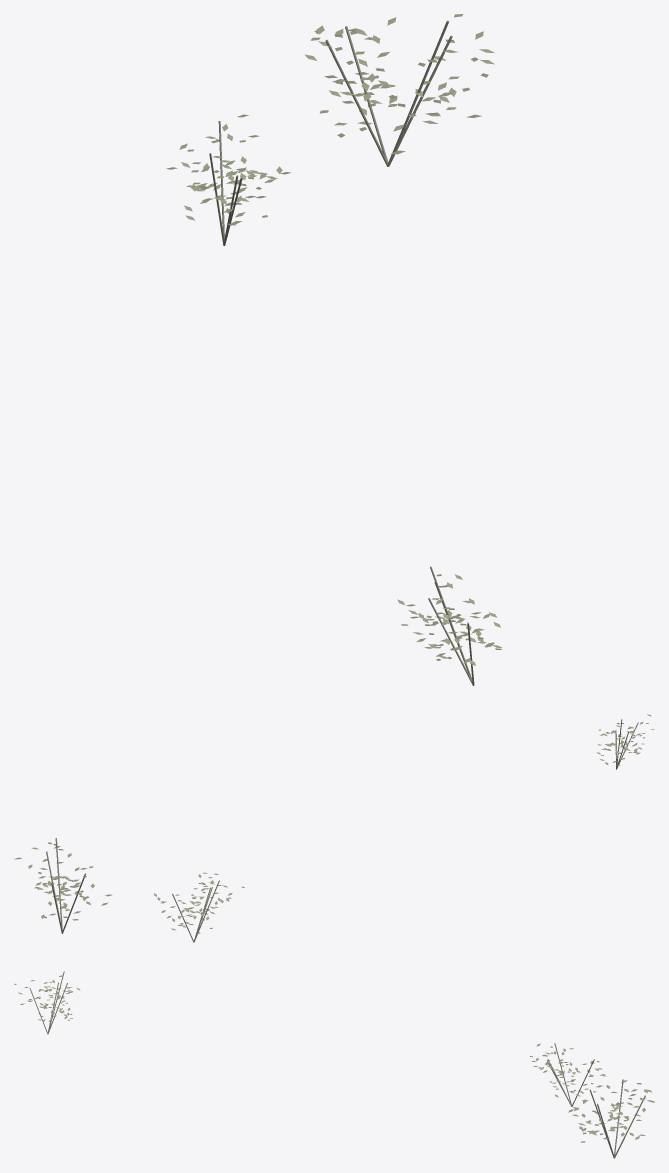
Rendered from AE_Shrubs_2_1.fbx.
3 views of the same model, one above another, from view 1: azimuth 30°, elevation 25°; view 2: azimuth 150°, elevation 25°; view 3: azimuth 270°, elevation 25° (orthographic). The views are drawn at different scales.
Parts seen in each view (by area): view 1: AE_Shrubs_2_1_LOD0; view 2: AE_Shrubs_2_1_LOD0; view 3: AE_Shrubs_2_1_LOD0.
Part boxes in pixels (x1,y1,x2,y2): AE_Shrubs_2_1_LOD0: (166,14,502,685); AE_Shrubs_2_1_LOD0: (14,714,654,942); AE_Shrubs_2_1_LOD0: (14,971,654,1158).
Size of what is drawn, in the model's own units: 802 by 189 by 1422.
